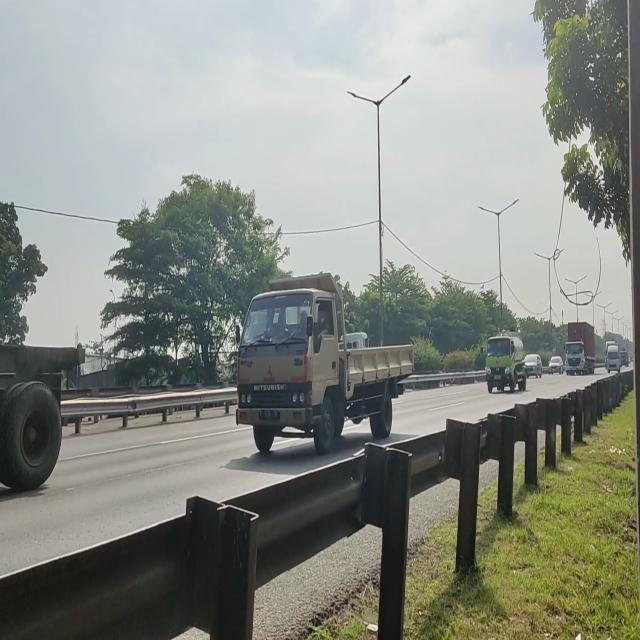Golongan II: (229, 267, 414, 464)
